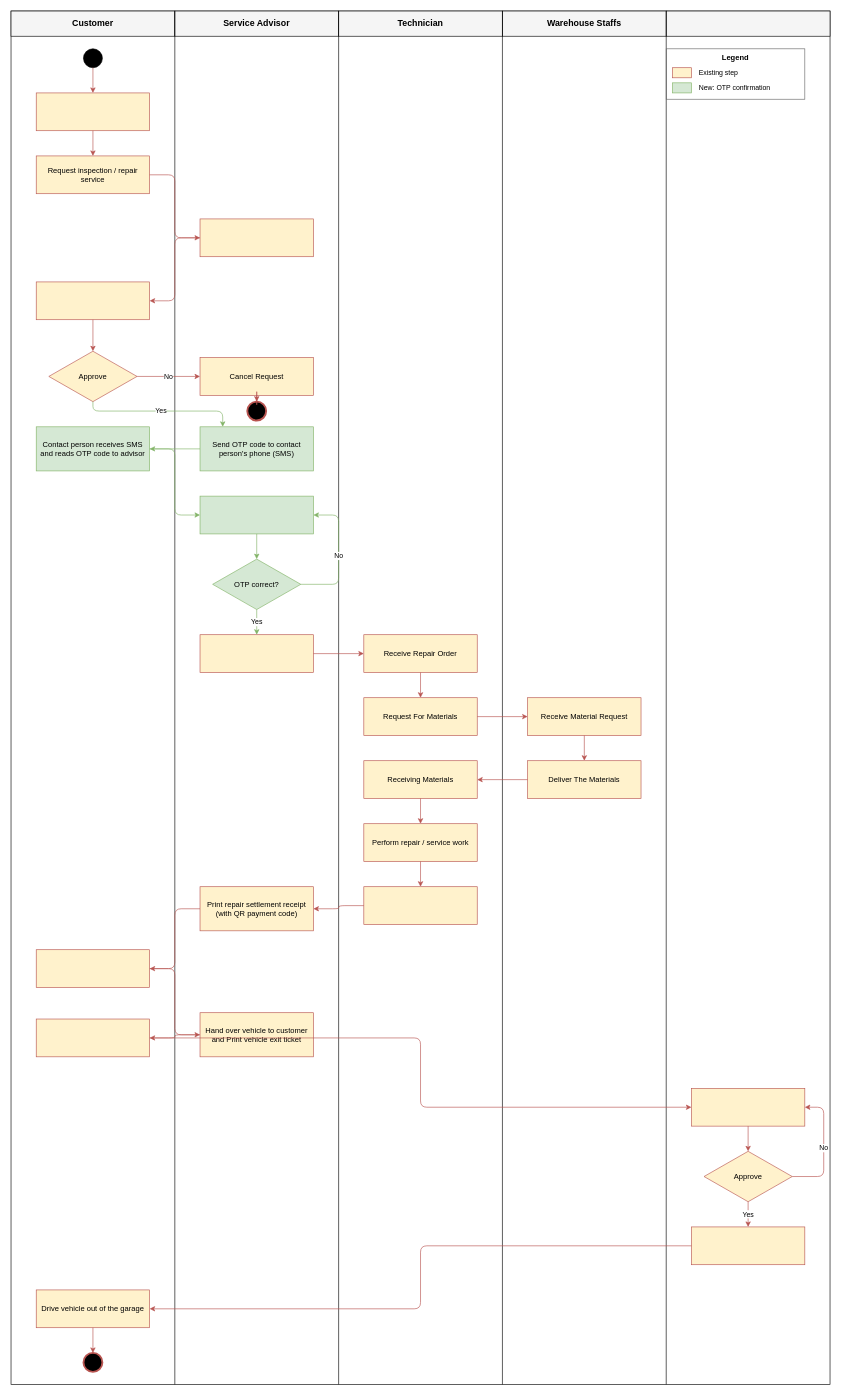
Some shapes in this 841 by 1396 pixel diagram are drawn without their labels. Here are the shapes that lost their labels. From the top down, the centre of each, then its label:
At point 748,23: "Security Guard".
At point 93,111: "Bring vehicle to garage".
At point 256,237: "Create repair settlement form".
At point 93,300: "Review repair settlement form".
At point 256,514: "Enter OTP code".
At point 256,653: "Confirm and submit form".
At point 420,905: "Mark repair as Complete".
At point 93,968: "Scan QR code and make payment".
At point 93,1037: "Receive vehicle".
At point 748,1107: "Check vehicle exit ticket".
At point 748,1245: "Allow vehicle to exit the gate".
